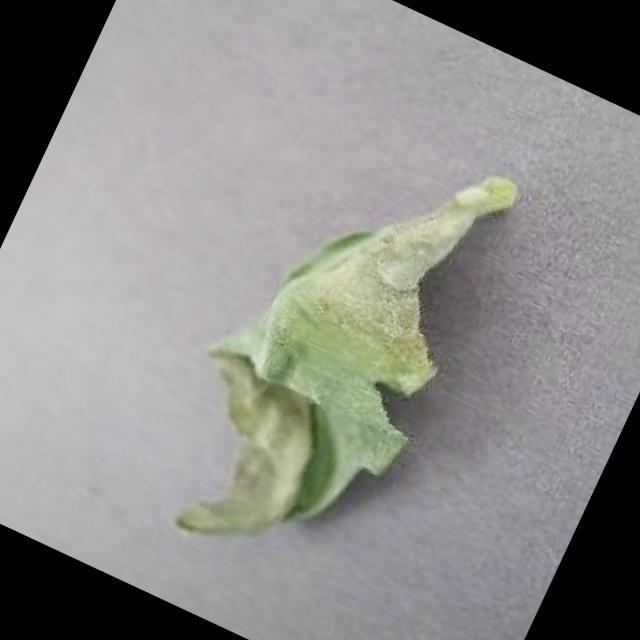Tomato healthy leaf: (128, 89, 532, 608)
